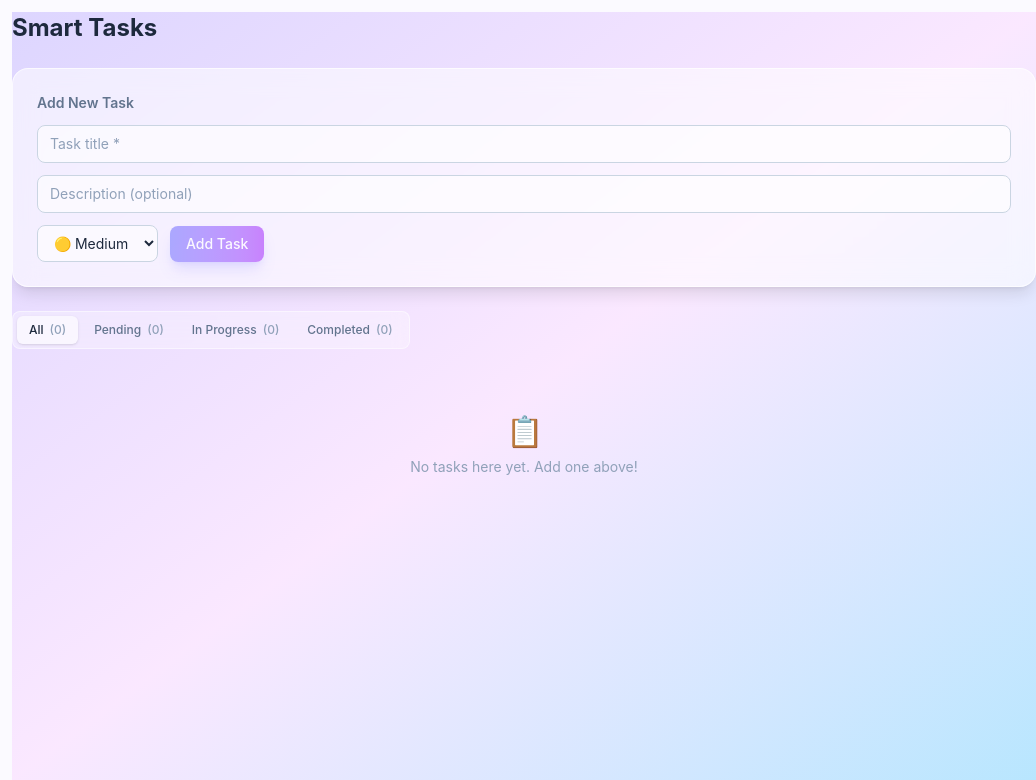
Test case: Tasks page — add task form › enables Add Task button when title is typed
Step 1. Type "New task" into the field with placeholder "Task title *" → [524, 144], box [37,125,1011,163]
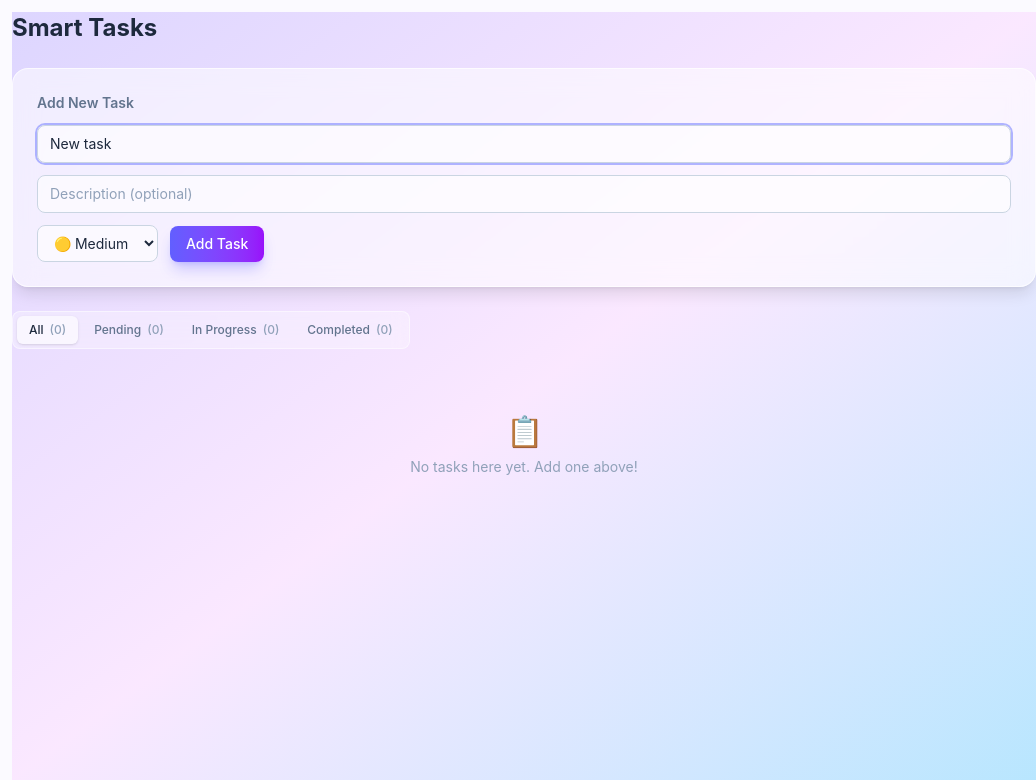
Now the button "Add Task" is enabled, box [170,226,264,262]
